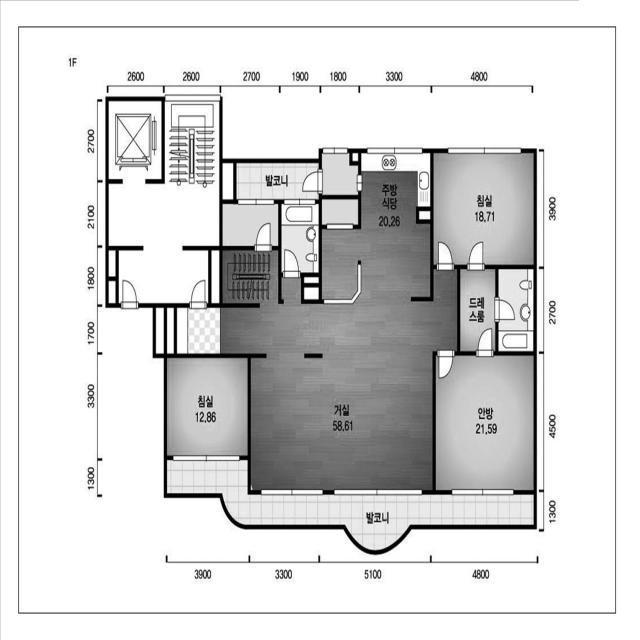space_balconi: (167, 460, 534, 551), (236, 163, 319, 200)
space_bedroom: (436, 355, 534, 490), (434, 153, 533, 265), (167, 358, 248, 456)
space_dressroom: (460, 269, 495, 351)
space_elevator: (108, 101, 162, 179)
space_elevator_hall: (108, 184, 219, 303)
space_front: (177, 308, 221, 354)
space_kitchen: (322, 153, 430, 299)
space_living_room: (221, 269, 457, 490)
space_other: (222, 204, 278, 246), (322, 153, 358, 195), (322, 199, 358, 225), (211, 250, 220, 303), (222, 163, 233, 200), (156, 308, 164, 354), (167, 308, 174, 354), (304, 287, 319, 300), (109, 250, 116, 277), (108, 281, 116, 303), (304, 277, 319, 283), (419, 211, 430, 219), (352, 153, 358, 161)
space_staircase: (165, 101, 219, 184), (223, 250, 278, 303)
space_toilet: (498, 269, 534, 352), (281, 204, 319, 273)
